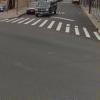Crosswalk: (6, 12, 98, 39)
